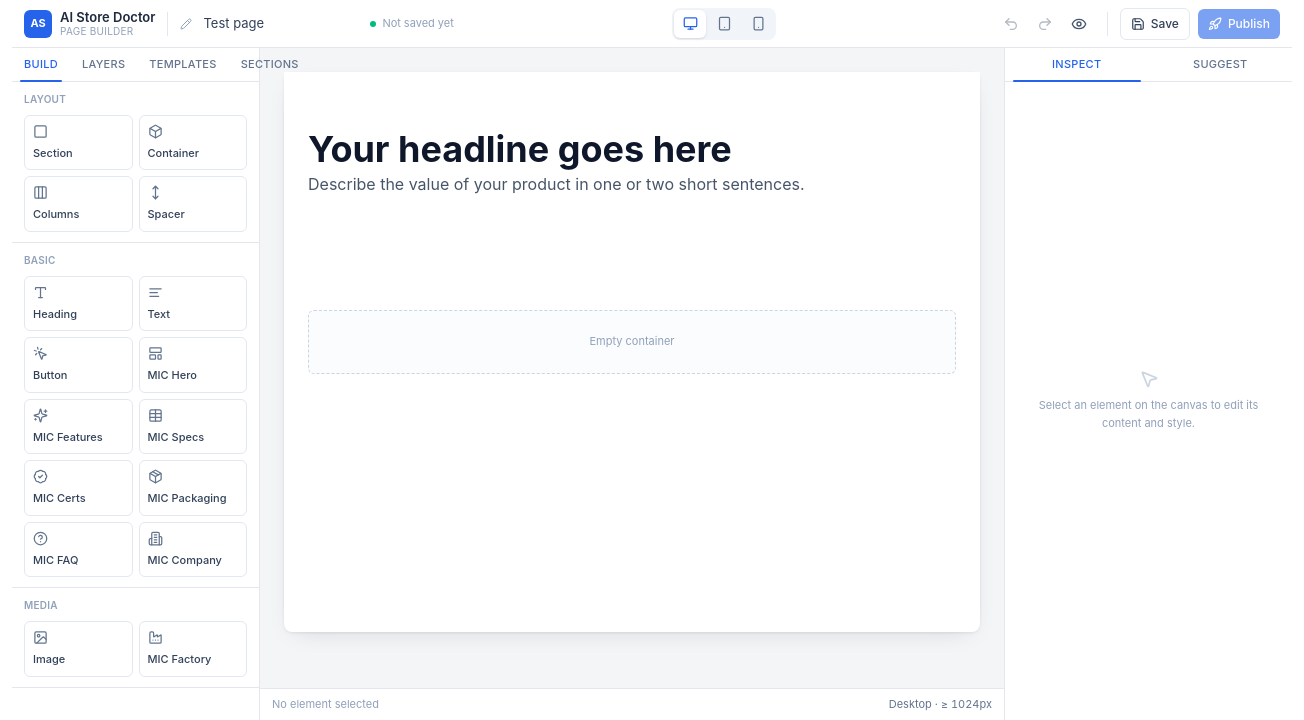
canvas selection drives inspector edits and undo updates the rendered content
Click the button "Your headline goes here": coordinates (520, 149) left=308, top=127, right=732, bottom=171
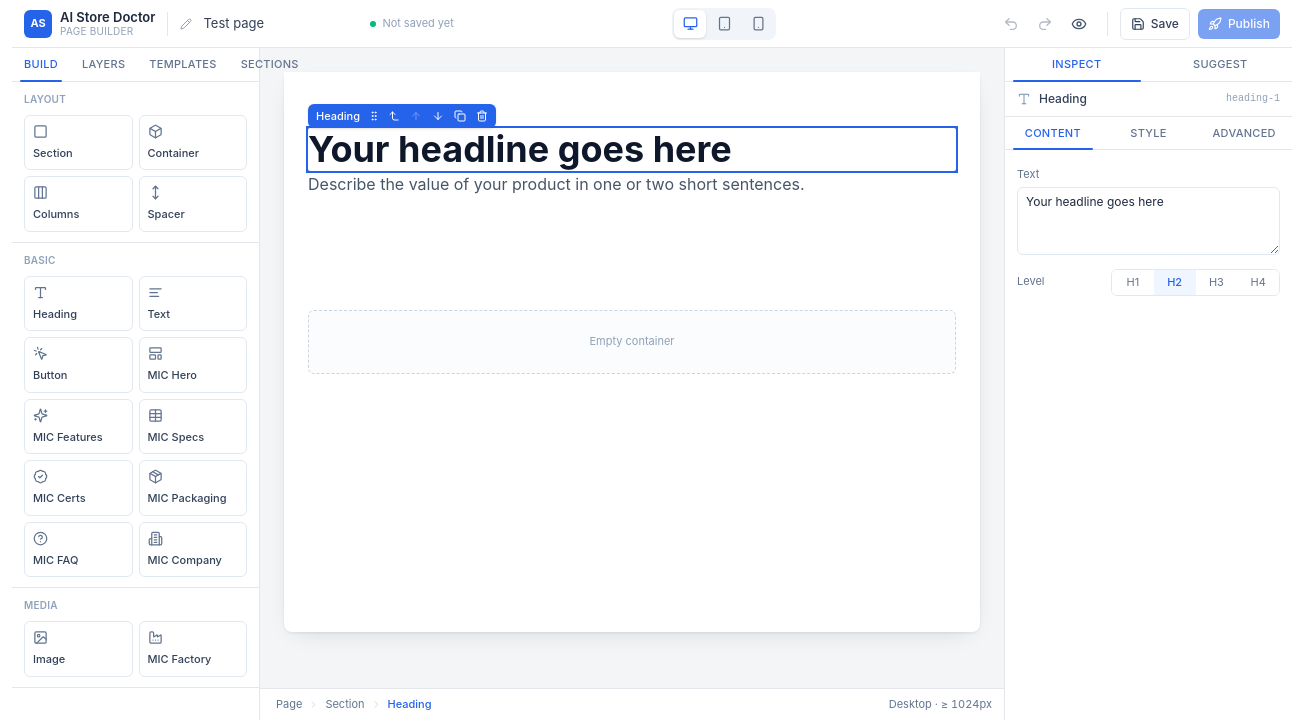
Check: the text "heading-1" is shown, box left=1226, top=91, right=1280, bottom=106
Replace the text in the text box with placeholder "Heading text" with "Edited heading": coordinates (1148, 221) left=1017, top=186, right=1280, bottom=255
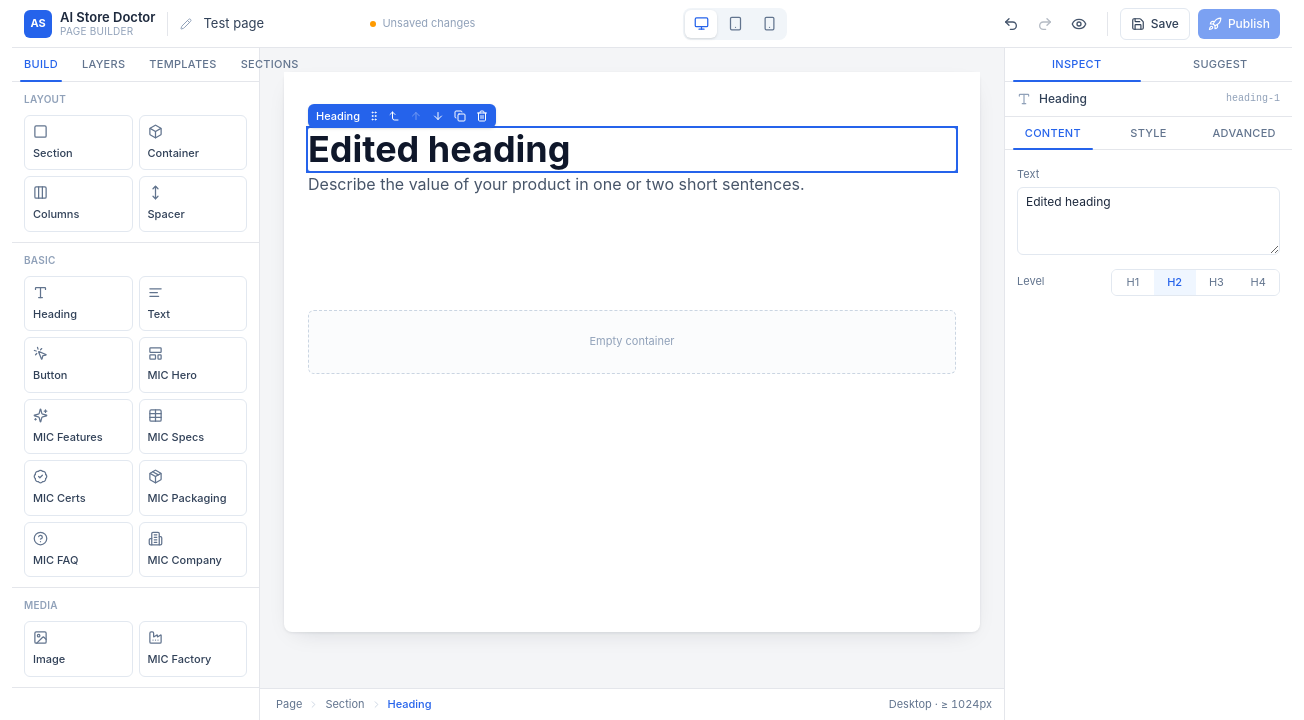
Check: the button "Edited heading" is shown, box left=308, top=127, right=570, bottom=171
Click the button named "Undo": coordinates (1011, 24) left=995, top=8, right=1027, bottom=40
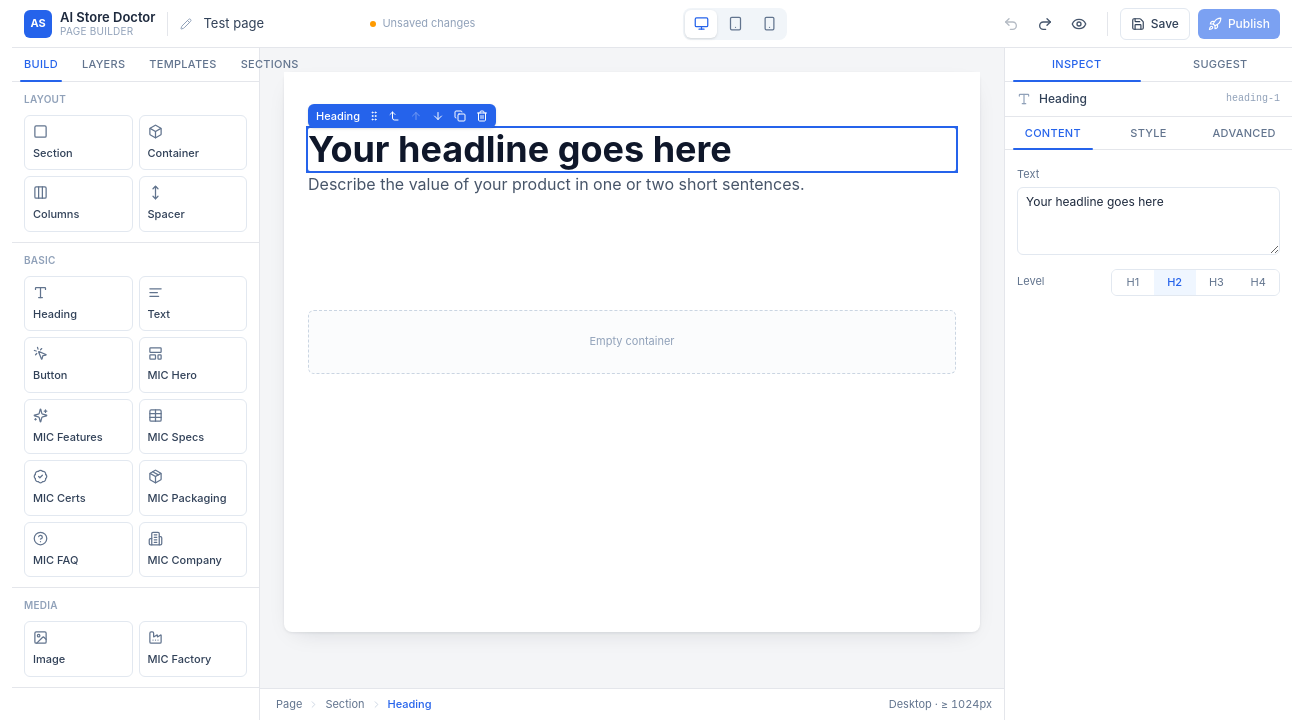
Check: the button "Edited heading" no longer shows "Edited heading"
